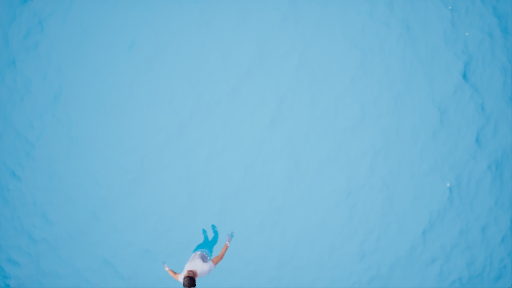person: (165, 222, 249, 288)
